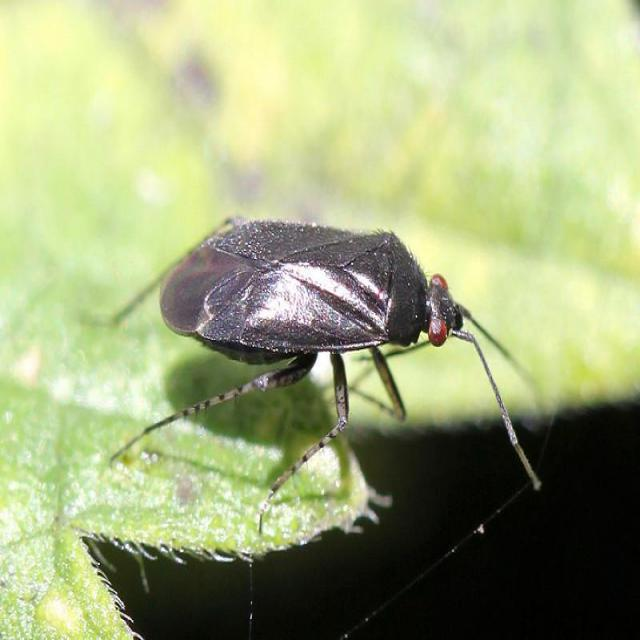Miridae-Adult-: (57, 187, 566, 536)
